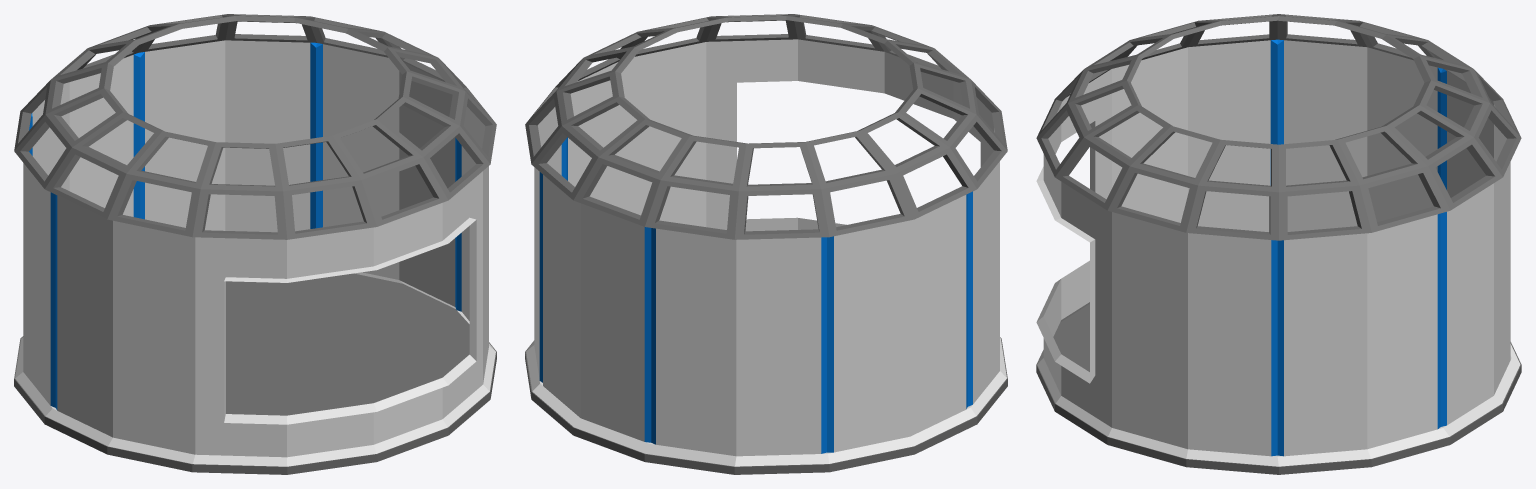
File: TitleDome.fbx
3 views of the same model, side by side, from view 1: azimuth 30°, elevation 25°; view 2: azimuth 150°, elevation 25°; view 3: azimuth 270°, elevation 25° (orthographic).
Visible parts, largest first — view 1: blue, grand; view 2: blue, grand; view 3: blue, grand.
Boxes of the visible parts, <box> form: blue: <box>14,14,496,466</box>; grand: <box>14,273,496,474</box>; blue: <box>525,14,1007,466</box>; grand: <box>525,337,1007,474</box>; blue: <box>1036,14,1521,466</box>; grand: <box>1036,304,1521,474</box>.
Bounding box in the file's own units: 3196 × 2123 × 3196.
